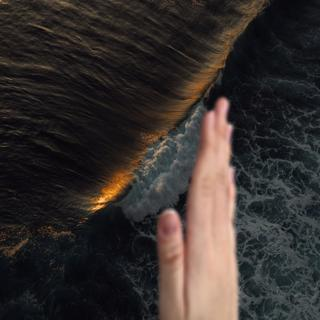Right: (158, 97, 247, 313)
